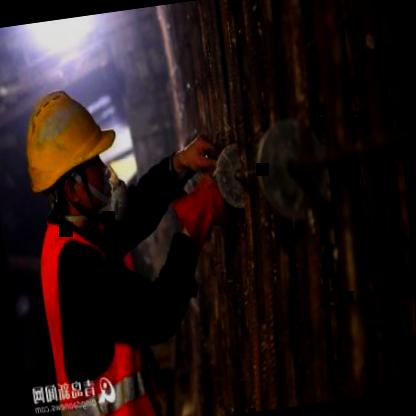helmet: (7, 64, 131, 240)
